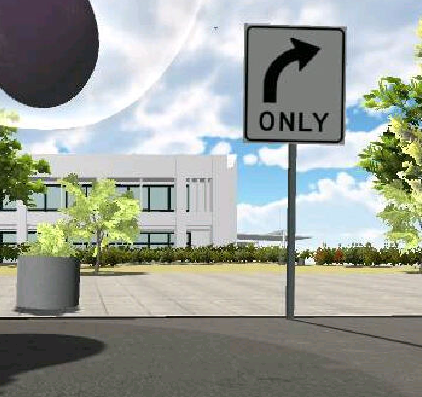arrow_right: (260, 36, 324, 105)
